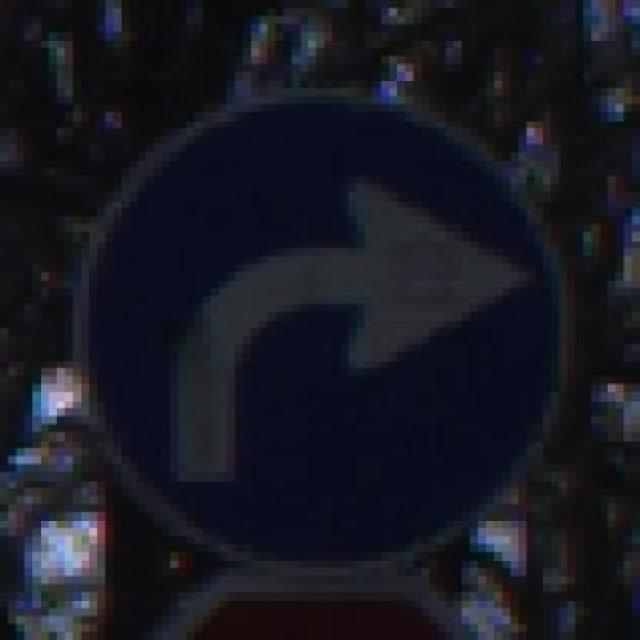Turn right ahead: (57, 64, 575, 584)
